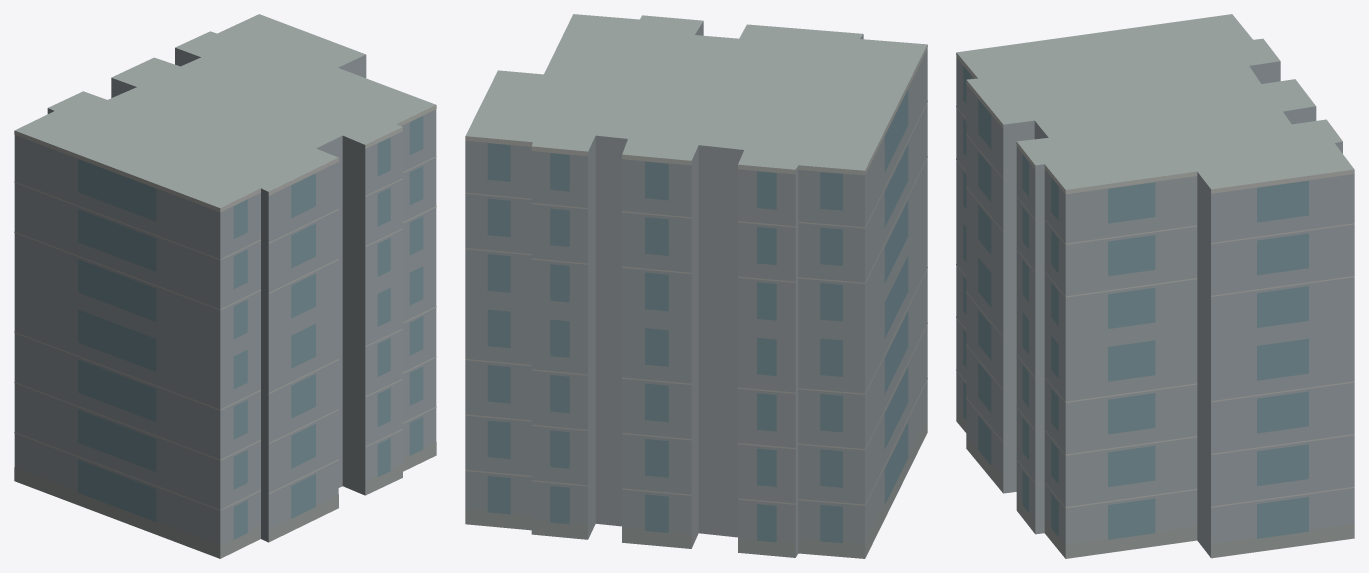
File: survey-upis-32907156.glb
3 views of the same model, side by side, from view 1: azimuth 30°, elevation 25°; view 2: azimuth 150°, elevation 25°; view 3: azimuth 270°, elevation 25° (orthographic). The views are drawn at different scales.
Parts seen in each view (by area): view 1: survey-upis-32907156.tmp; view 2: survey-upis-32907156.tmp; view 3: survey-upis-32907156.tmp.
Boxes of the visible parts, bbox=[...] form: survey-upis-32907156.tmp: bbox=[14, 14, 436, 558]; survey-upis-32907156.tmp: bbox=[465, 14, 927, 558]; survey-upis-32907156.tmp: bbox=[956, 14, 1354, 558].
Bounding box in the file's own units: 20.69 × 20.2 × 19.79.
